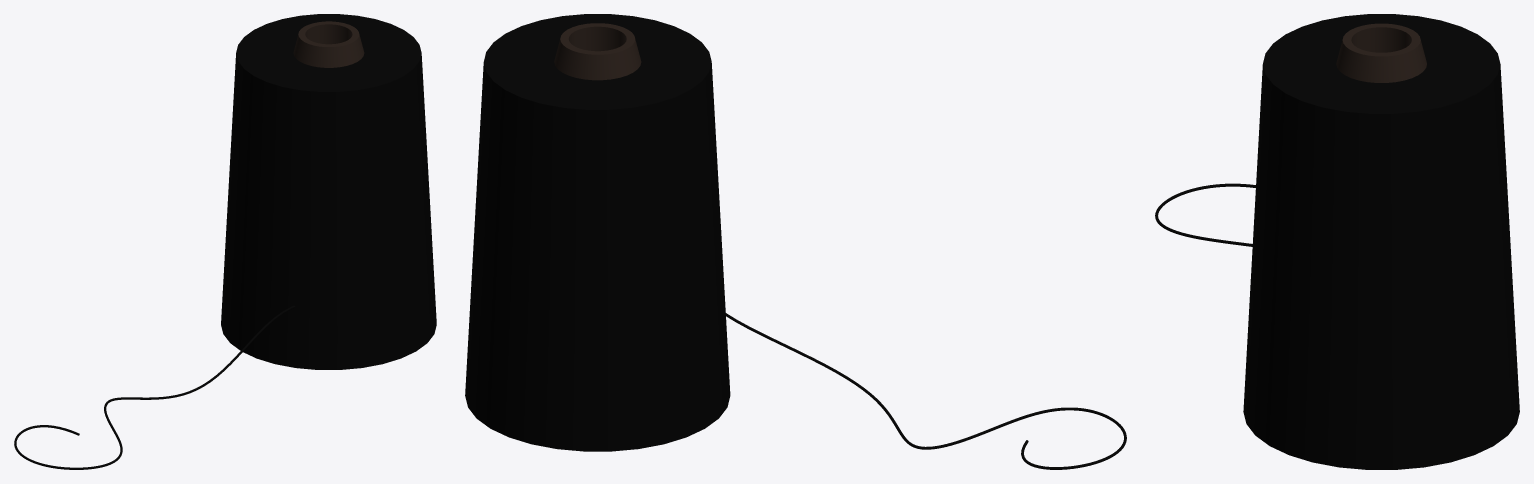
The picture shows the model from 3 angles, left to right: view 1: azimuth 30°, elevation 25°; view 2: azimuth 150°, elevation 25°; view 3: azimuth 270°, elevation 25°; orthographic projection. The views are drawn at different scales.
Parts seen in each view (by area): view 1: F_BlackThread_02; view 2: F_BlackThread_02; view 3: F_BlackThread_02.
Part boxes in pixels (<box>): F_BlackThread_02: <box>14,14,436,469</box>; F_BlackThread_02: <box>465,14,1126,469</box>; F_BlackThread_02: <box>1155,14,1519,469</box>.
Size of the model in its own units: 37.02 by 22.56 by 19.96.
Materials: 1 (1 with a texture image).
